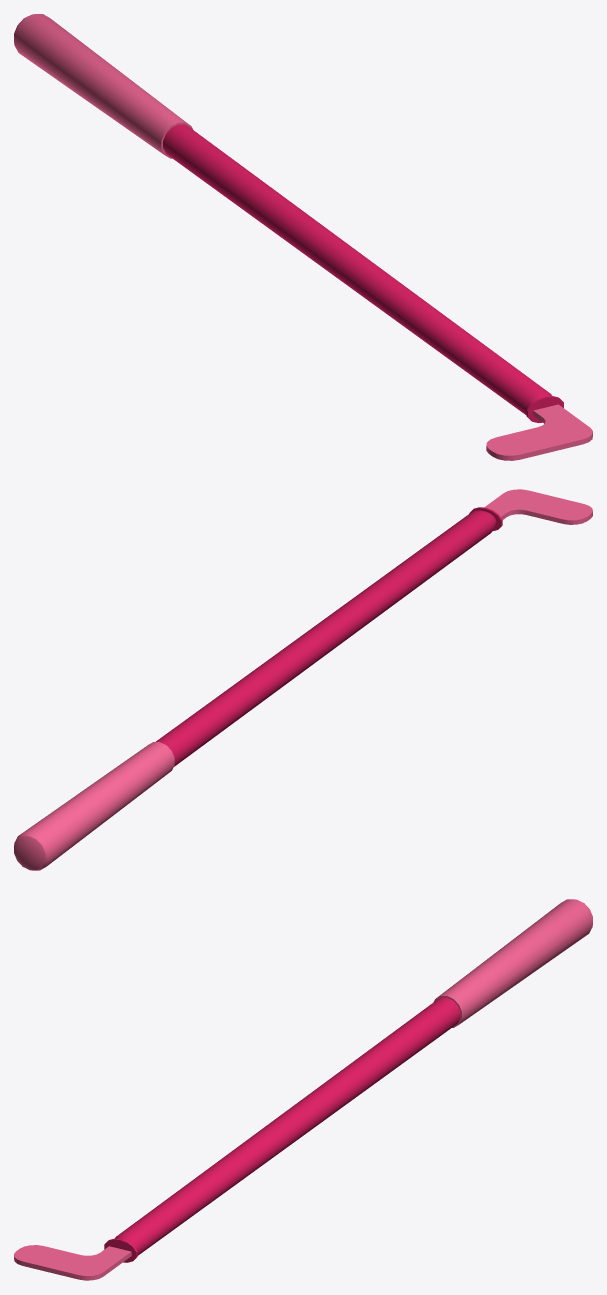
File: Golf_Stick_2.fbx
3 views of the same model, one above another, from view 1: azimuth 30°, elevation 25°; view 2: azimuth 150°, elevation 25°; view 3: azimuth 330°, elevation 25° (orthographic). The views are drawn at different scales.
Visible parts, largest first — view 1: Golf_Stick_2; view 2: Golf_Stick_2; view 3: Golf_Stick_2.
Boxes of the visible parts, left/top/right/bottom form: Golf_Stick_2: left=14, top=14, right=592, bottom=460; Golf_Stick_2: left=14, top=489, right=592, bottom=870; Golf_Stick_2: left=14, top=899, right=592, bottom=1280.
Size of the model in its own units: 8.73 by 3.4 by 80.24.
1 material, 1 textured.
